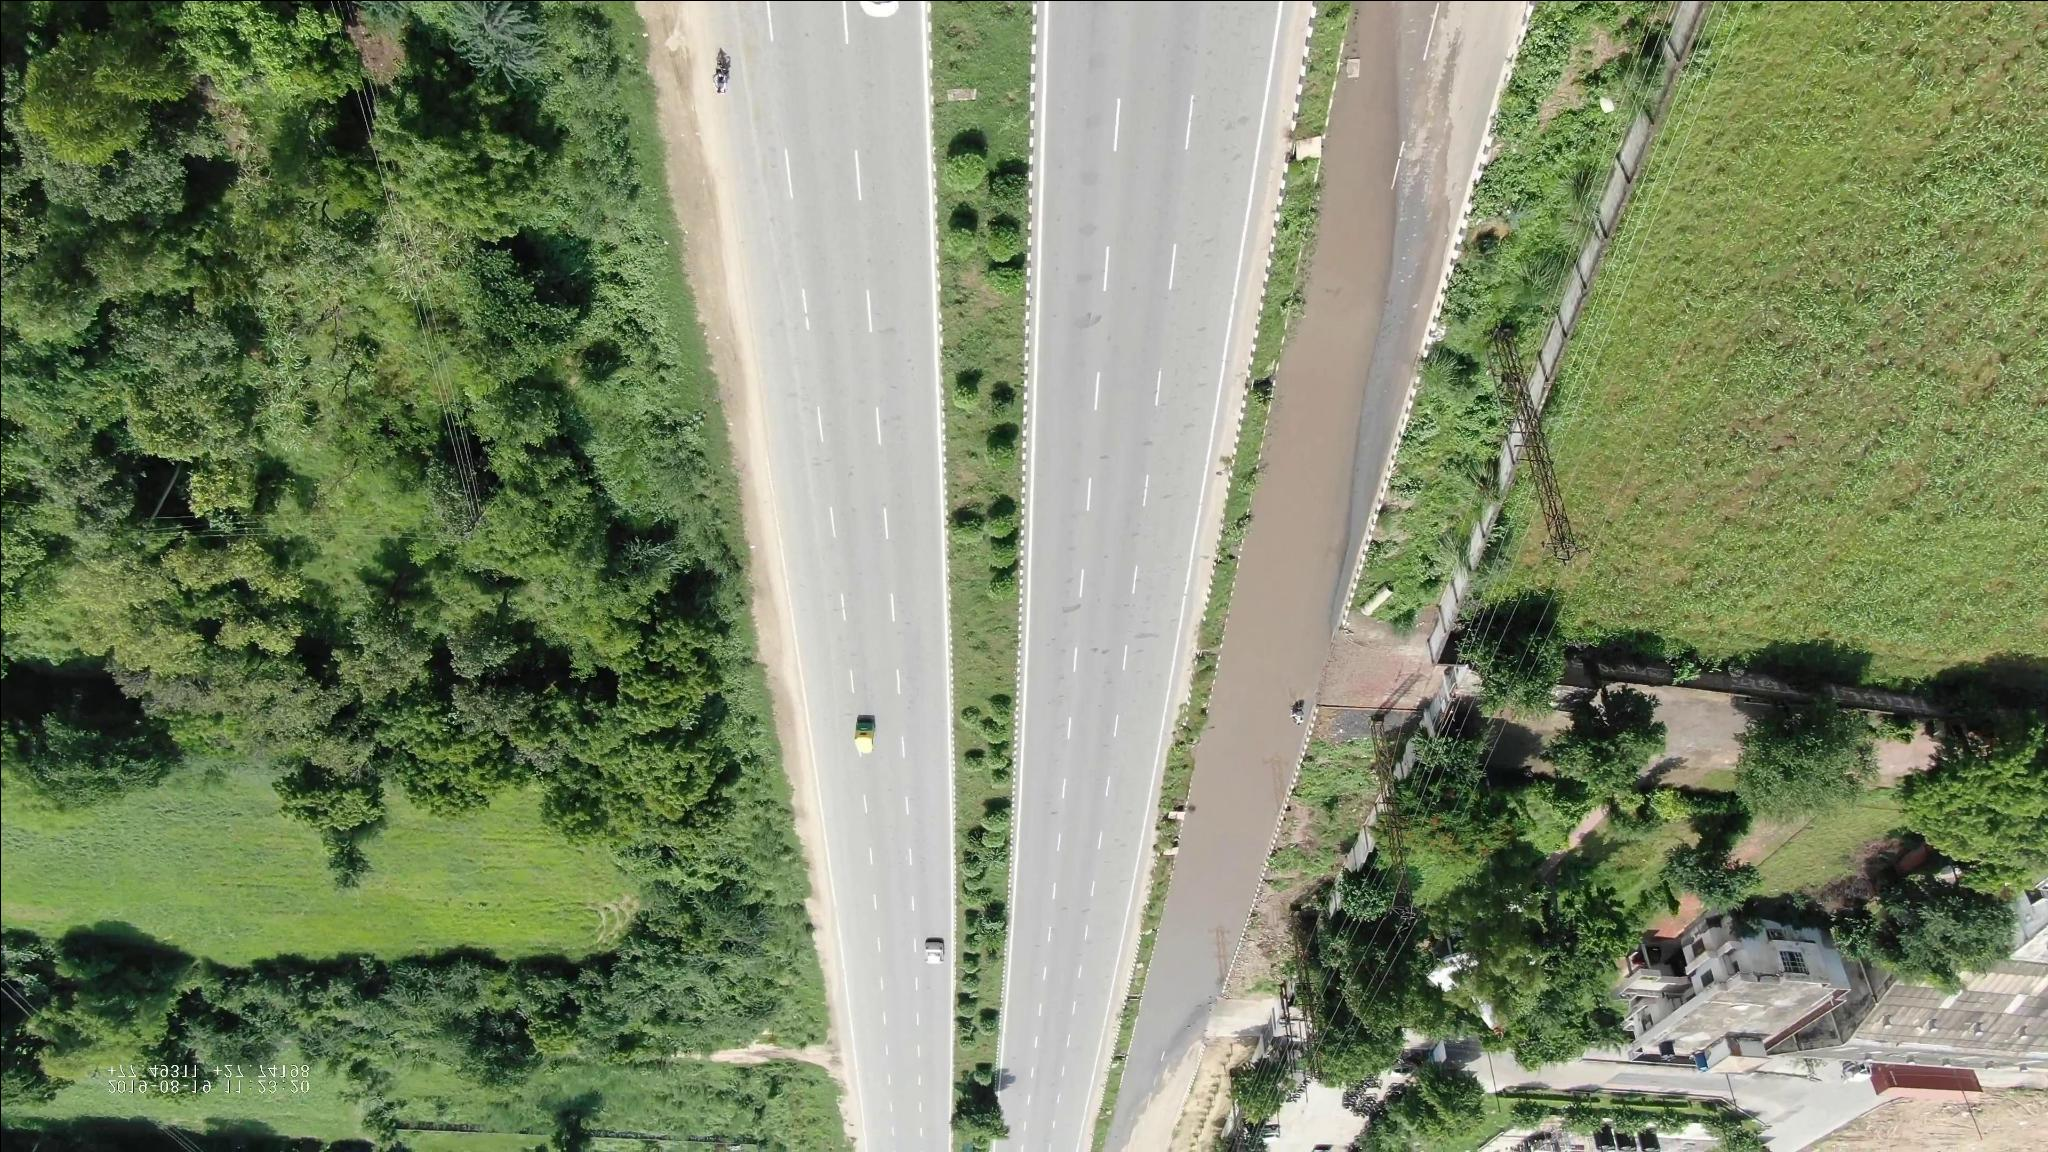Waterlogging: (1217, 45, 1409, 670), (1146, 684, 1315, 1039)
